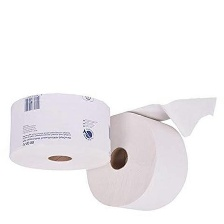tissue: (80, 92, 222, 217), (3, 87, 116, 177)
